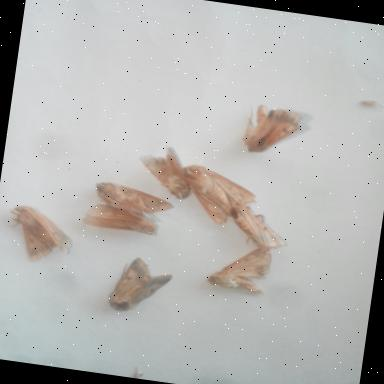abw: (170, 152, 266, 232), (0, 198, 81, 270), (102, 248, 180, 322), (235, 94, 318, 163), (198, 235, 280, 301), (128, 137, 204, 205), (86, 176, 181, 226), (220, 198, 298, 258), (72, 196, 165, 243)
